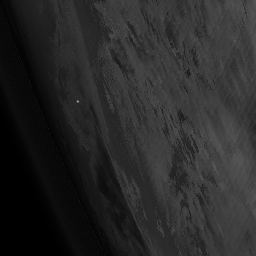Target: (75, 99, 80, 103)
